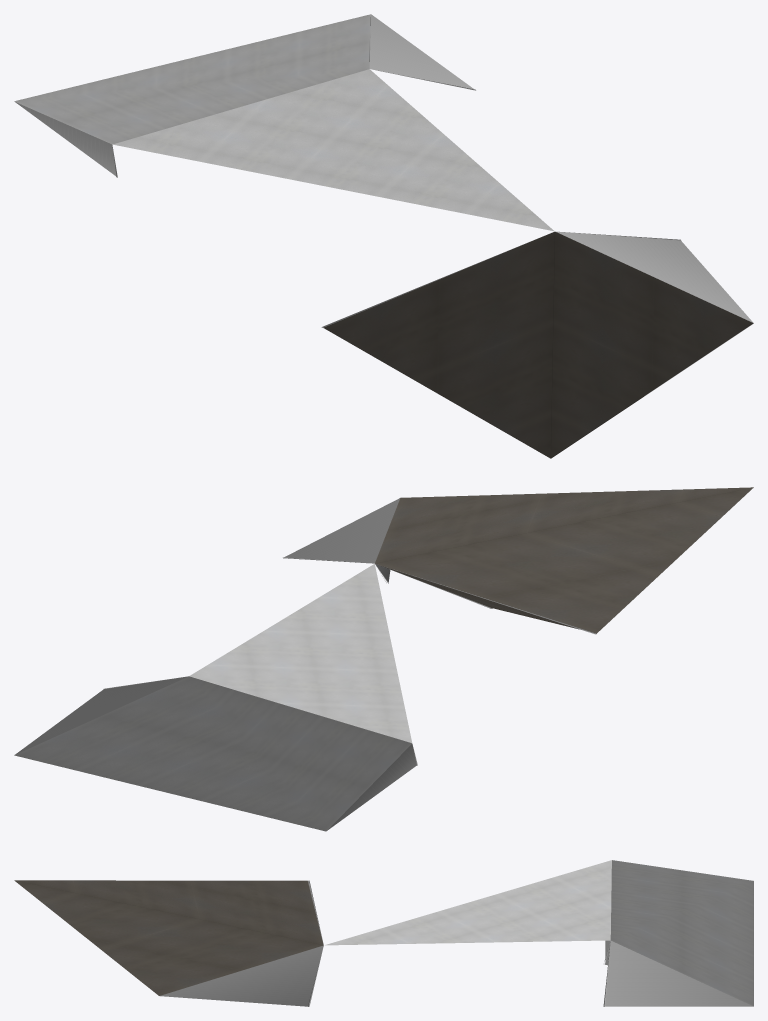
File: GAParkingSheds_LOD3.gltf
The picture shows the model from 3 angles, top to bottom: view 1: azimuth 30°, elevation 25°; view 2: azimuth 150°, elevation 25°; view 3: azimuth 270°, elevation 25°; orthographic projection. The views are drawn at different scales.
Parts seen in each view (by area): view 1: node4; view 2: node4; view 3: node4.
Boxes of the visible parts, bbox=[...] form: node4: bbox=[14, 14, 753, 458]; node4: bbox=[14, 487, 753, 831]; node4: bbox=[14, 860, 753, 1006].
Bounding box in the file's own units: 10.06 × 1.13 × 24.88.
